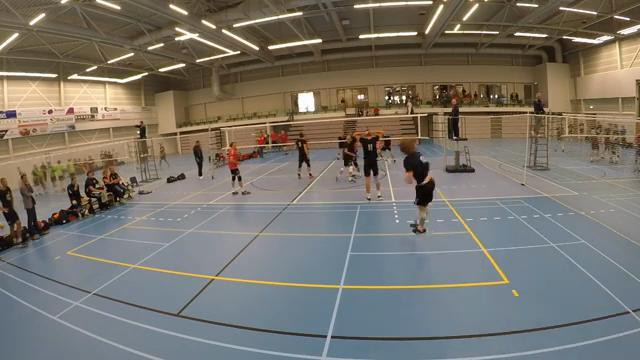Player: (354, 130, 383, 200), (228, 142, 249, 194), (336, 135, 356, 181), (295, 132, 312, 178), (379, 135, 395, 162), (336, 133, 346, 159)
Serve: (389, 132, 438, 238)
